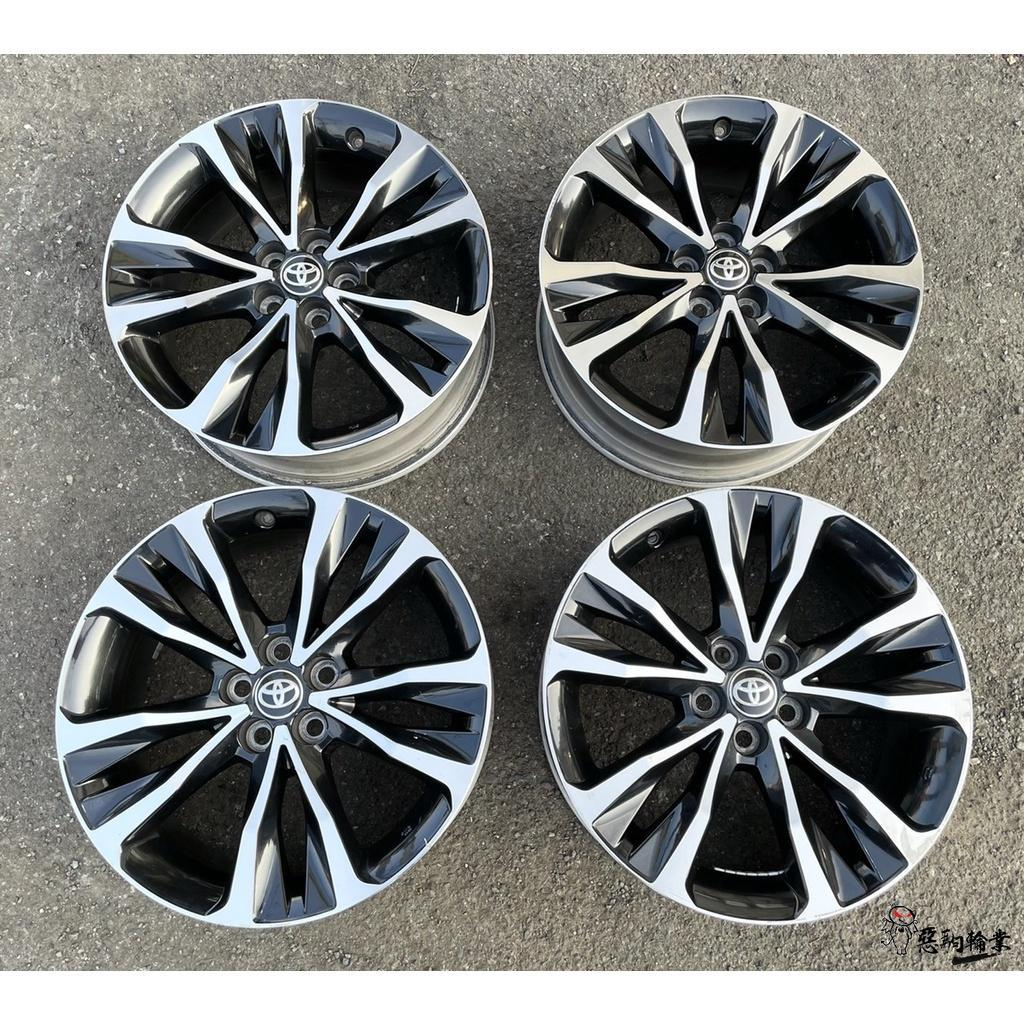hole: (688, 684, 719, 717), (732, 724, 760, 756), (778, 696, 803, 728), (763, 644, 788, 676), (712, 640, 739, 668), (737, 294, 762, 319), (314, 662, 338, 688), (249, 722, 273, 748), (302, 715, 326, 741), (306, 304, 330, 330), (270, 640, 293, 662), (691, 294, 713, 316), (232, 678, 254, 699), (261, 294, 281, 316), (678, 252, 698, 274), (334, 272, 356, 291)
